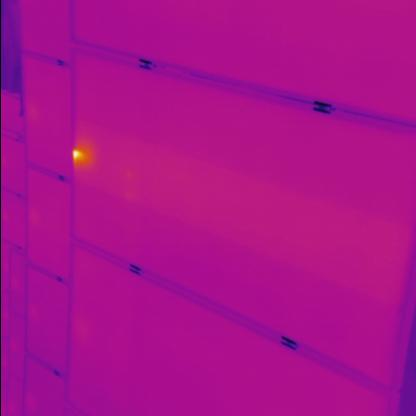hotspot: (69, 140, 86, 164)
